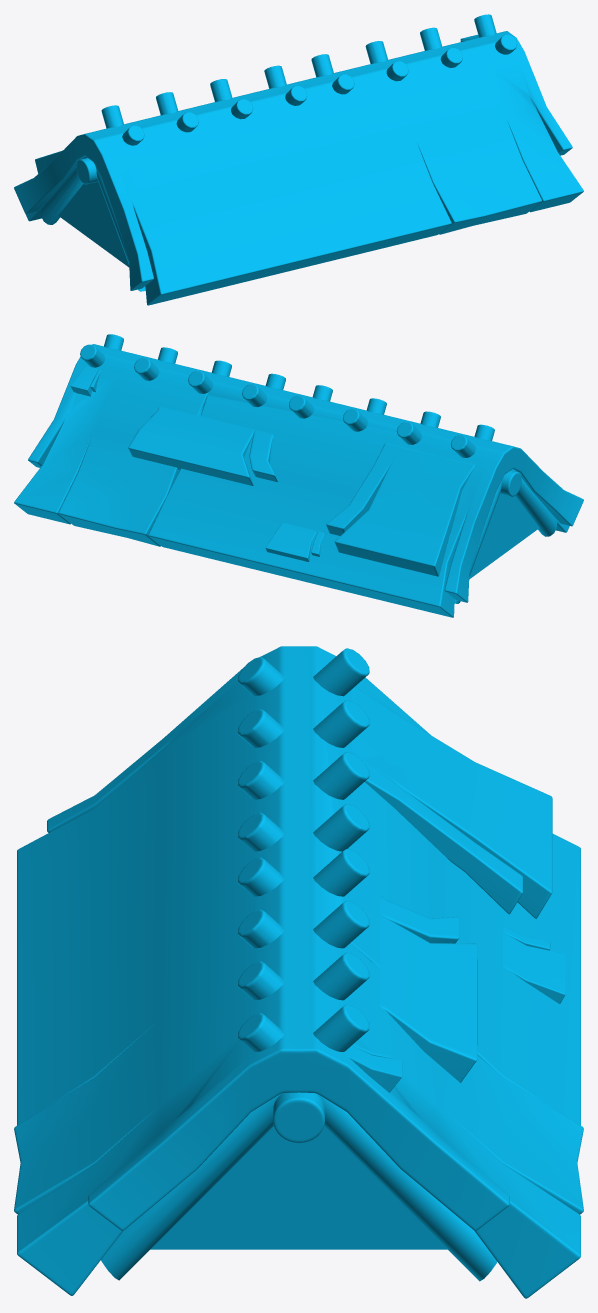
The model's file is SM_Clay_Roof_07.fbx.
The picture shows the model from 3 angles, top to bottom: view 1: azimuth 30°, elevation 25°; view 2: azimuth 150°, elevation 25°; view 3: azimuth 270°, elevation 25°; orthographic projection. The views are drawn at different scales.
Visible parts, largest first — view 1: SM_Clay_Roof_07; view 2: SM_Clay_Roof_07; view 3: SM_Clay_Roof_07.
Part boxes in pixels (box(x1,y1,x2,y2)): SM_Clay_Roof_07: box(14, 14, 583, 305); SM_Clay_Roof_07: box(14, 334, 583, 617); SM_Clay_Roof_07: box(14, 646, 583, 1298).
Bounding box in the file's own units: 5.25 × 1.61 × 3.
